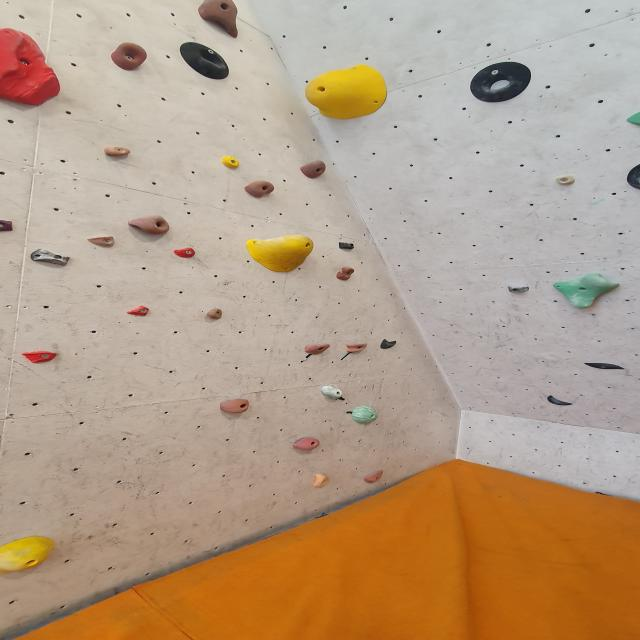Crimp: (18, 350, 60, 364), (86, 236, 120, 250), (217, 156, 241, 172), (171, 247, 197, 260), (125, 307, 153, 319), (361, 469, 384, 483), (553, 175, 578, 187), (0, 218, 17, 233)
Jug: (550, 273, 622, 309), (196, 0, 240, 40), (110, 42, 150, 71), (128, 215, 174, 236), (242, 180, 275, 198), (299, 162, 327, 182), (218, 399, 252, 413), (292, 438, 322, 452), (335, 267, 358, 282), (304, 344, 333, 355), (344, 342, 370, 354), (624, 110, 640, 128), (205, 308, 225, 320)
Pinch: (26, 249, 74, 264), (316, 383, 349, 401), (101, 146, 132, 158), (311, 475, 331, 490), (507, 284, 531, 294), (338, 243, 357, 251)
Pocket: (466, 62, 534, 105), (176, 42, 232, 82), (623, 162, 640, 190)
Sloper: (300, 64, 391, 124), (1, 31, 64, 107), (243, 234, 317, 274), (1, 535, 58, 576), (350, 408, 378, 424)
